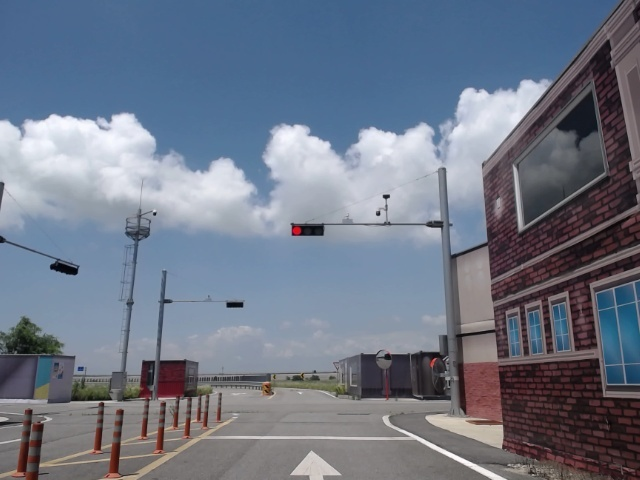red_3: (290, 226, 325, 237)
